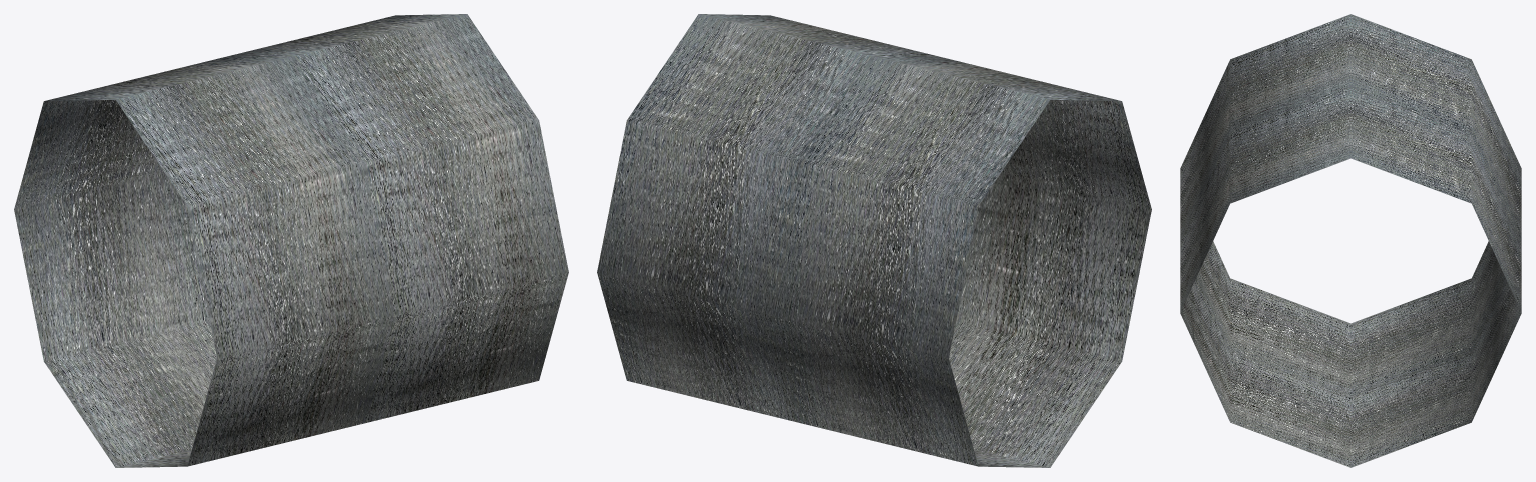
Rendered from tunnel-lowpoly.obj.
3 renders of one model, left to right at view 1: azimuth 30°, elevation 25°; view 2: azimuth 150°, elevation 25°; view 3: azimuth 270°, elevation 25°, orthographic. The views are drawn at different scales.
Bounding box in the file's own units: 2 × 2 × 2.
1 material, 1 textured.
